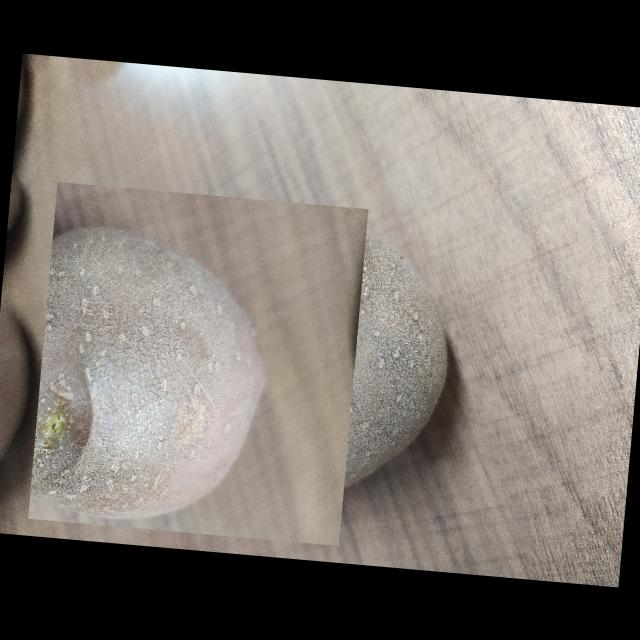Damaged potato: (28, 182, 368, 546)
